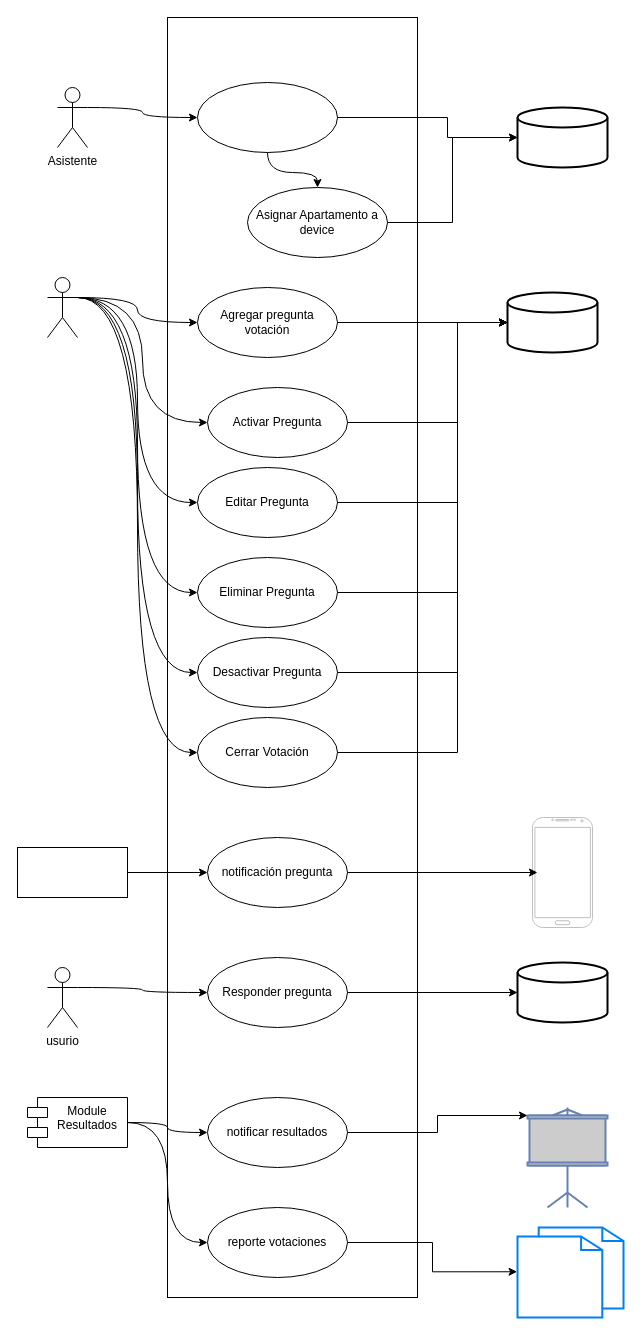
Some shapes in this 642 by 1336 pixel diagram are drawn without their labels. The shapes that lost their labels are listed below. From the top down, each one's box as (x1, y1, x2, y2) in pixels, then its label:
(196, 82, 338, 152): Registrar Device Votación
(516, 106, 608, 168): Device - apt
(46, 276, 78, 338): Administrador
(506, 291, 598, 353): questions
(166, 16, 418, 1298): Casos de Usos
(16, 846, 128, 898): Publisher
(516, 961, 608, 1023): respuestas
